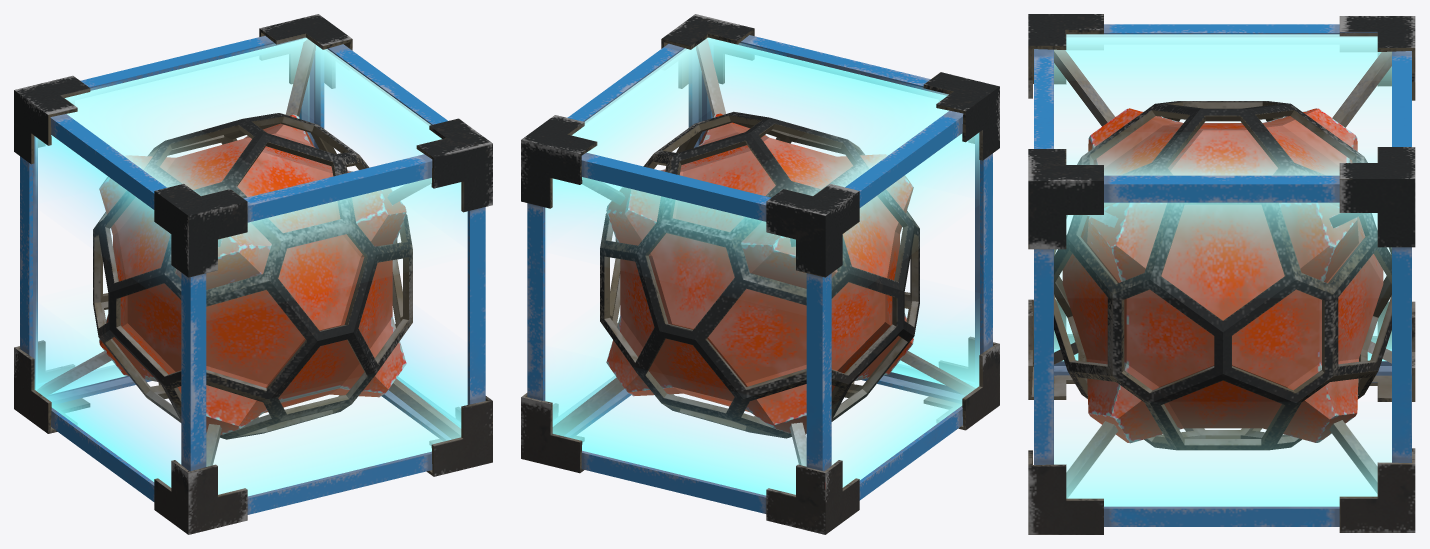
Rendered from lootBoxes.glb.
The picture shows the model from 3 angles, left to right: view 1: azimuth 30°, elevation 25°; view 2: azimuth 150°, elevation 25°; view 3: azimuth 270°, elevation 25°; orthographic projection. The views are drawn at different scales.
Visible parts, largest first — view 1: LootBox1; view 2: LootBox1; view 3: LootBox1.
Boxes of the visible parts, left/top/right/bottom form: LootBox1: left=14, top=14, right=492, bottom=534; LootBox1: left=521, top=14, right=999, bottom=534; LootBox1: left=1028, top=14, right=1415, bottom=534.
Bounding box in the file's own units: 1.23 × 1.24 × 1.22.
2 materials, 2 textured.
